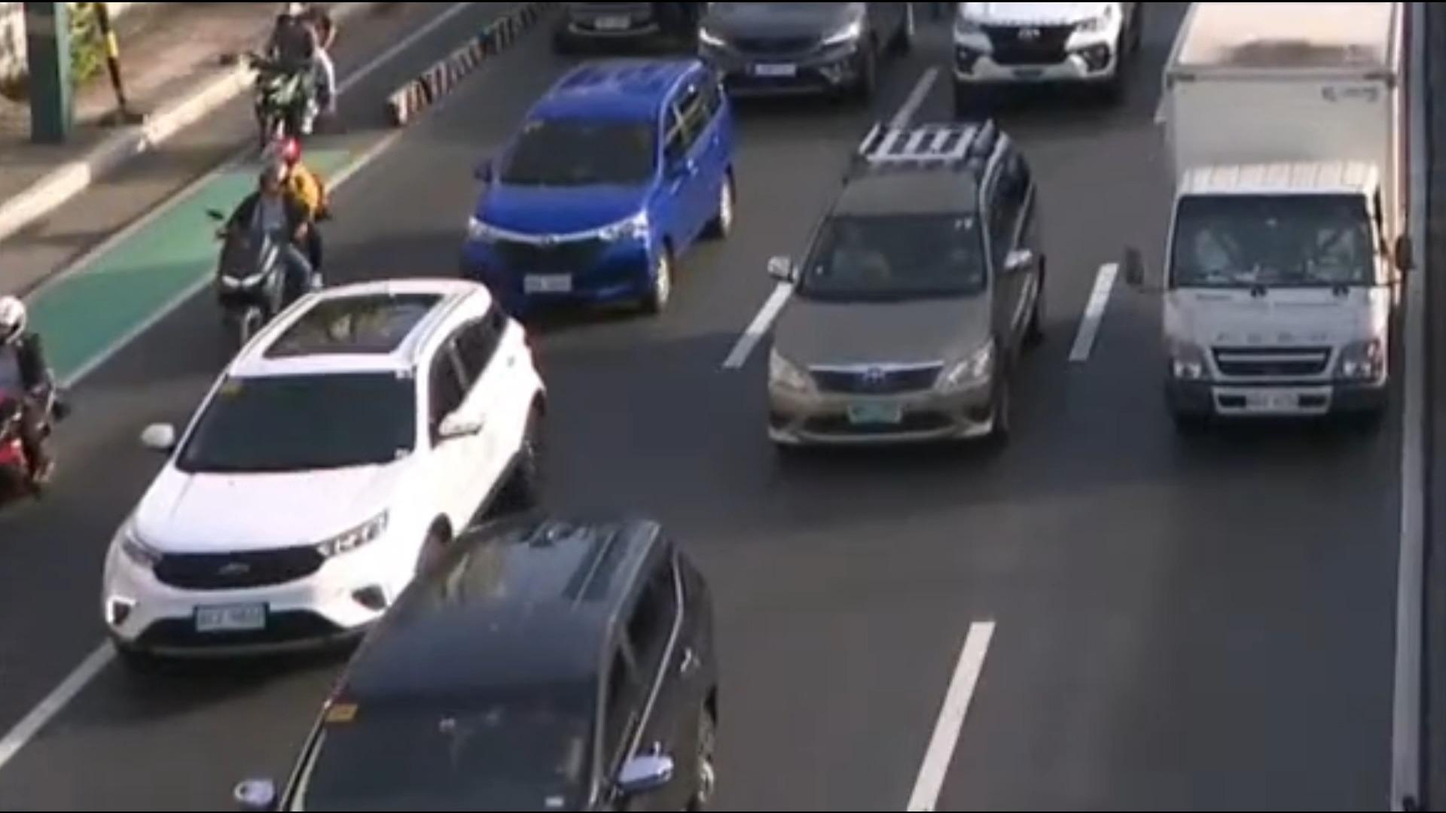Motorcycle: (209, 141, 331, 367), (235, 0, 341, 171), (0, 290, 64, 502)
SUV: (102, 279, 546, 679), (755, 130, 1051, 452), (463, 62, 740, 311)
Sedan: (235, 518, 721, 813)
Truck: (1150, 0, 1427, 444)
